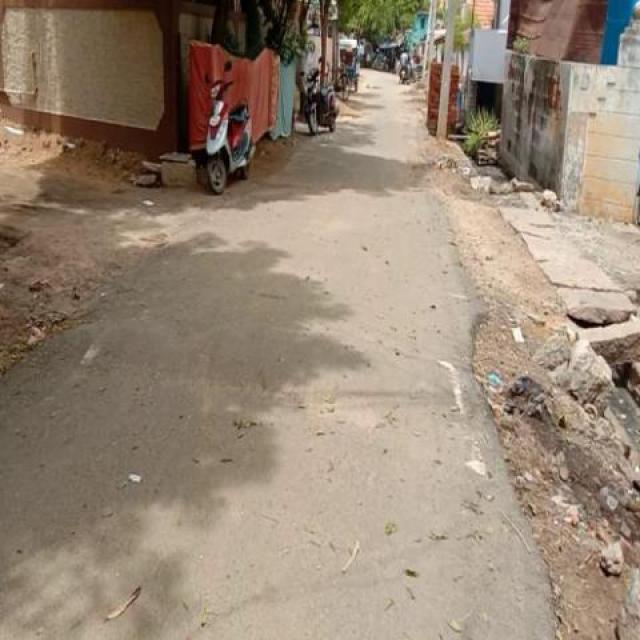Unmarked Bump: (59, 317, 482, 400)
